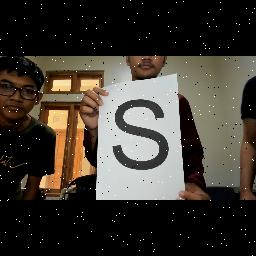s: (109, 94, 173, 176)
